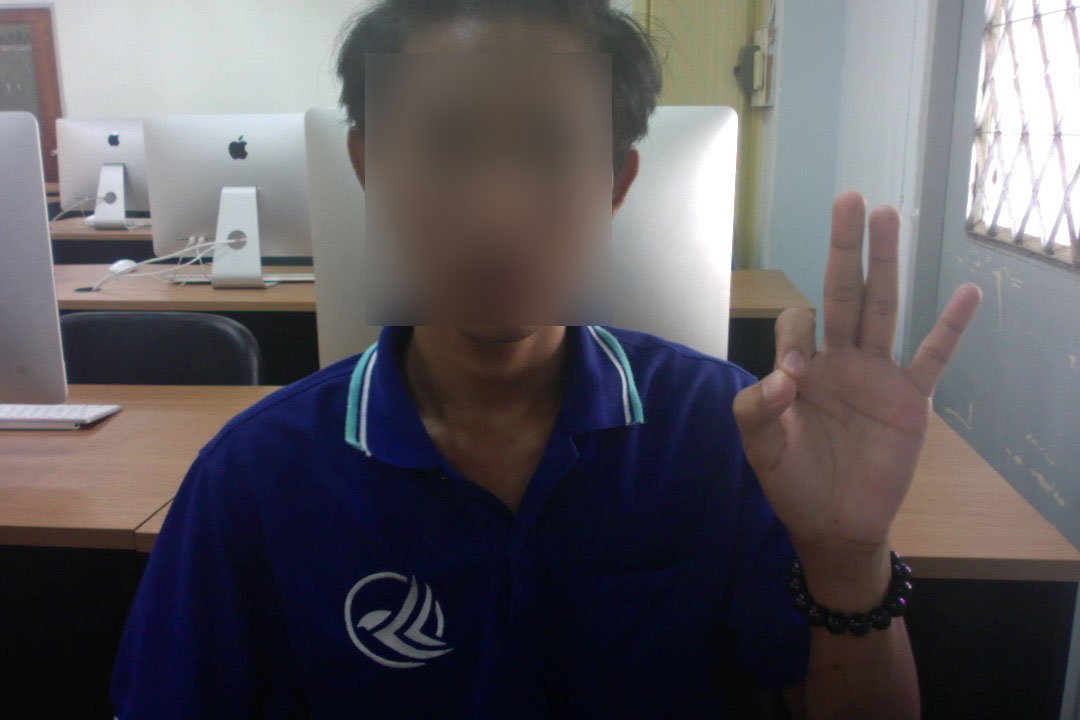for: (719, 181, 987, 559)
